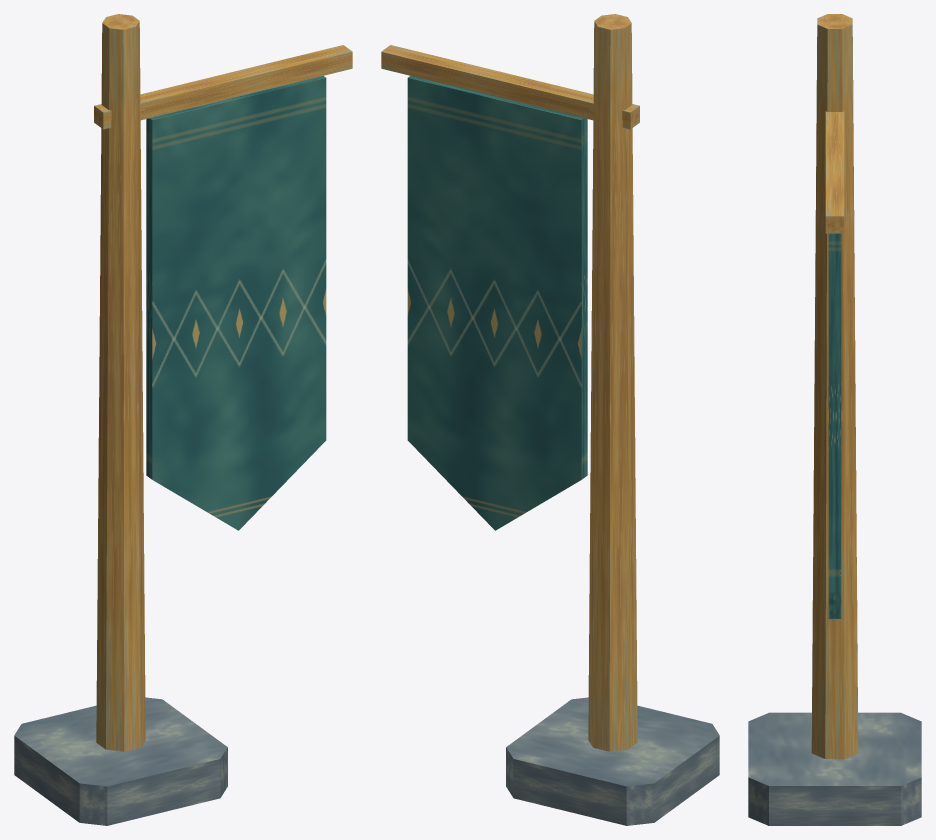
The model's file is WayBanner.fbx.
3 views of the same model, side by side, from view 1: azimuth 30°, elevation 25°; view 2: azimuth 150°, elevation 25°; view 3: azimuth 270°, elevation 25° (orthographic).
Visible parts, largest first — view 1: WayBanner; view 2: WayBanner; view 3: WayBanner.
Part boxes in pixels (x1,y1,x2,y2): WayBanner: (14,14,352,825); WayBanner: (381,14,719,825); WayBanner: (748,14,921,825).
Size of the model in its own units: 224 by 538 by 110.
Materials: 1 (1 with a texture image).
